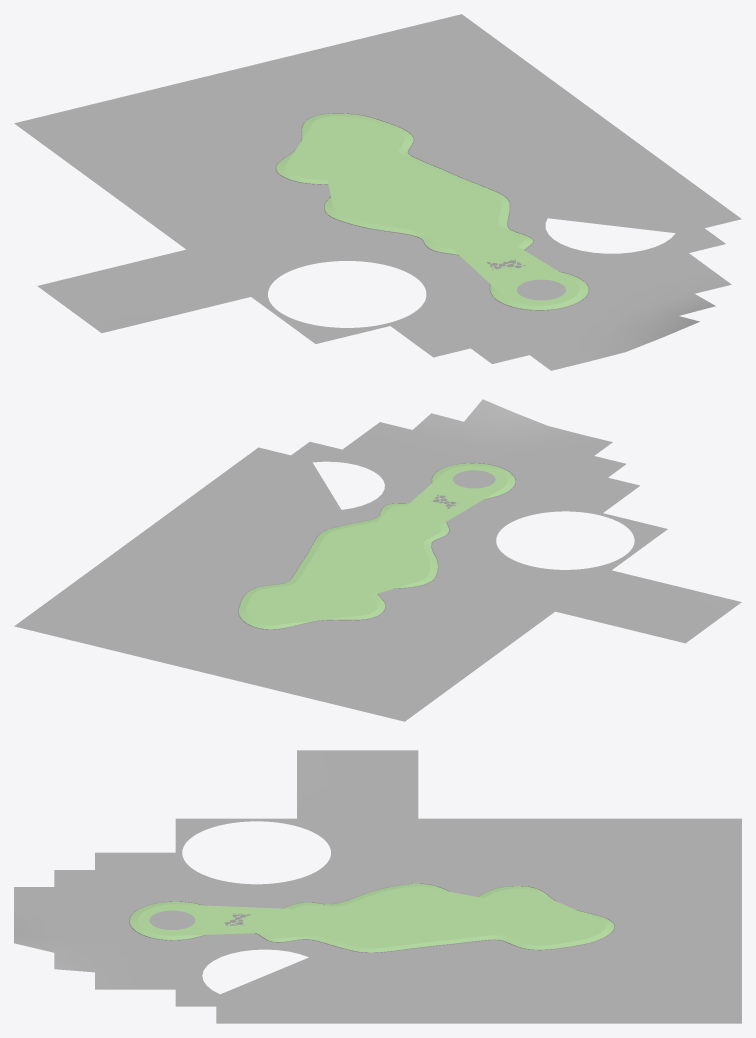
The model's file is SM_CentralParkBorder_Substance.fbx.
3 renders of one model, top to bottom at view 1: azimuth 30°, elevation 25°; view 2: azimuth 150°, elevation 25°; view 3: azimuth 270°, elevation 25°, orthographic. The views are drawn at different scales.
Parts seen in each view (by area): view 1: SM_Floor, Grass, SM_CentralParkBorder; view 2: SM_Floor, Grass, SM_CentralParkBorder; view 3: SM_Floor, Grass, SM_CentralParkBorder.
Boxes of the visible parts, left/top/right/bottom form: SM_Floor: left=14, top=14, right=741, bottom=370; Grass: left=276, top=113, right=588, bottom=309; SM_CentralParkBorder: left=275, top=113, right=589, bottom=310; SM_Floor: left=14, top=399, right=741, bottom=721; Grass: left=238, top=463, right=515, bottom=629; SM_CentralParkBorder: left=238, top=462, right=515, bottom=629; SM_Floor: left=14, top=750, right=741, bottom=1023; Grass: left=130, top=883, right=614, bottom=952; SM_CentralParkBorder: left=129, top=883, right=614, bottom=952.
Size of the model in its own units: 15075 by 309 by 16960.
